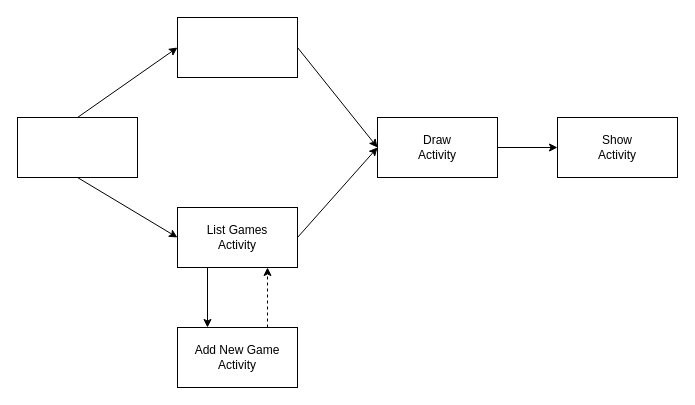
Image size: 695x405. Some labels were removed from this diagram. The centre of each missing label's shape, as x and y in pixels:
Game Mode Activity: point (77, 147)
Start Activity: point (237, 47)
